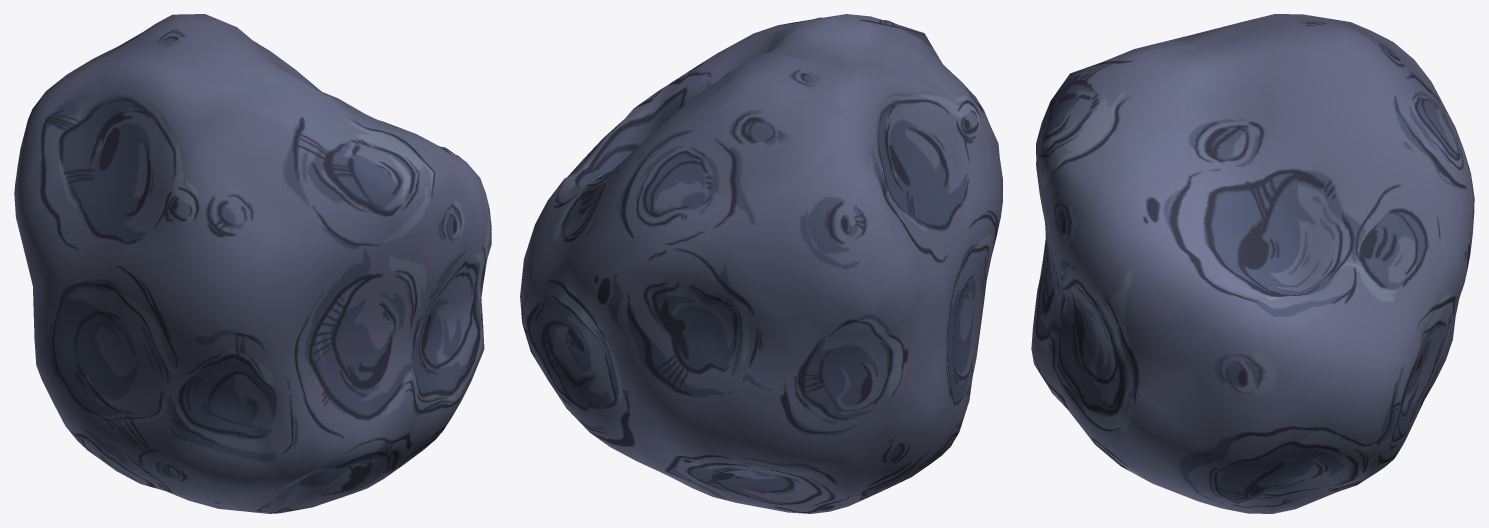
Rendered from asteroid_general.gltf.
The picture shows the model from 3 angles, left to right: view 1: azimuth 30°, elevation 25°; view 2: azimuth 150°, elevation 25°; view 3: azimuth 270°, elevation 25°; orthographic projection. The views are drawn at different scales.
Parts seen in each view (by area): view 1: asteroid_general; view 2: asteroid_general; view 3: asteroid_general.
Boxes of the visible parts, box(x1,y1,x2,y2) form: asteroid_general: box(14, 14, 491, 513); asteroid_general: box(520, 14, 1002, 513); asteroid_general: box(1031, 14, 1474, 513).
Bounding box in the file's own units: 1.95 × 2.1 × 1.89.
Materials: 1 (1 with a texture image).
